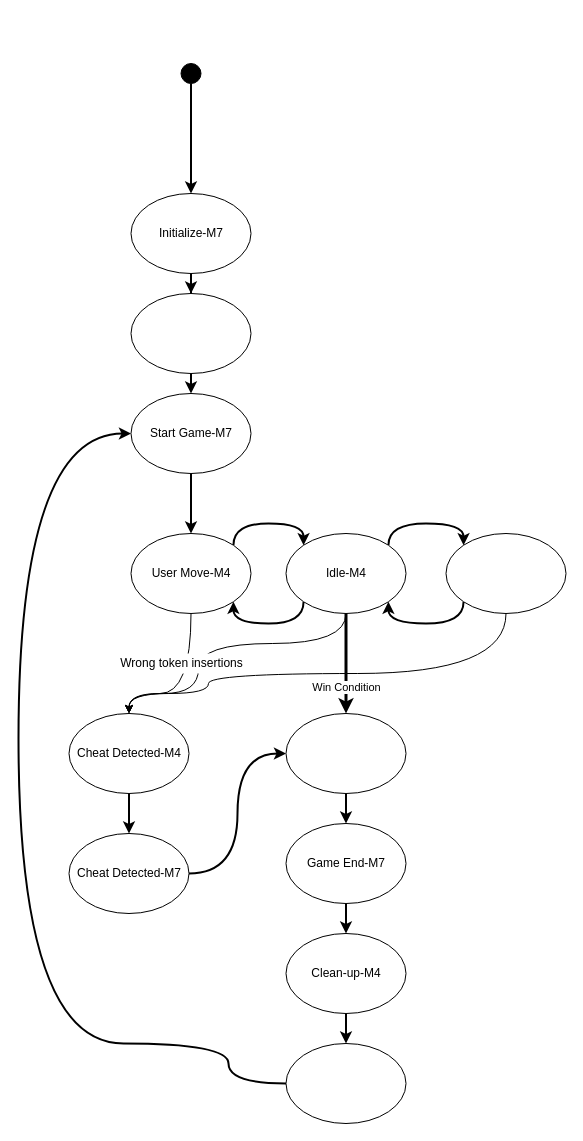
This 583x1141 diagram has some shape labels left out. Here are the shapes that lost their labels. From the top down, the box of each, then its label:
(180, 62, 201, 84): Boot From CM7
(130, 292, 251, 374): Initialize-M4
(445, 532, 566, 614): Robot Move-M4
(285, 712, 406, 794): Game End-M4
(285, 1042, 406, 1124): Clean-up-M7
